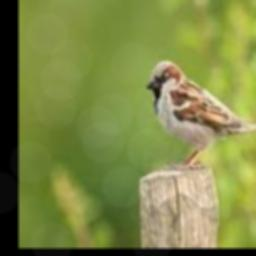Sparrow: (145, 60, 256, 168)
